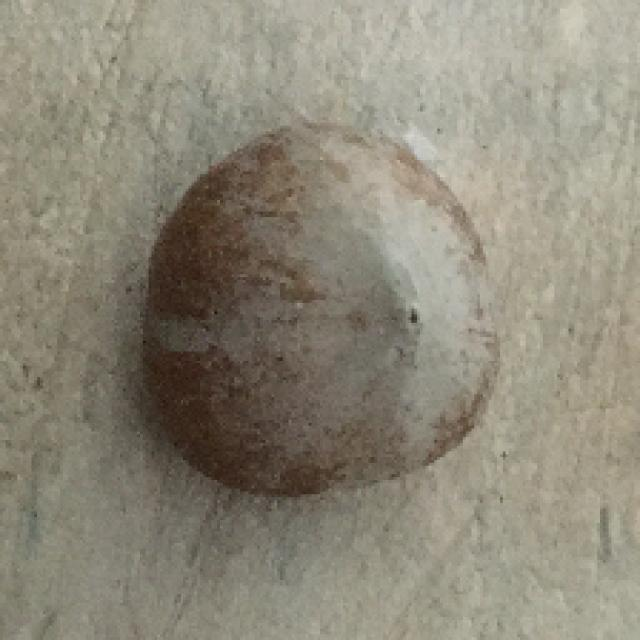qualityHazelnut: (144, 122, 509, 499)
